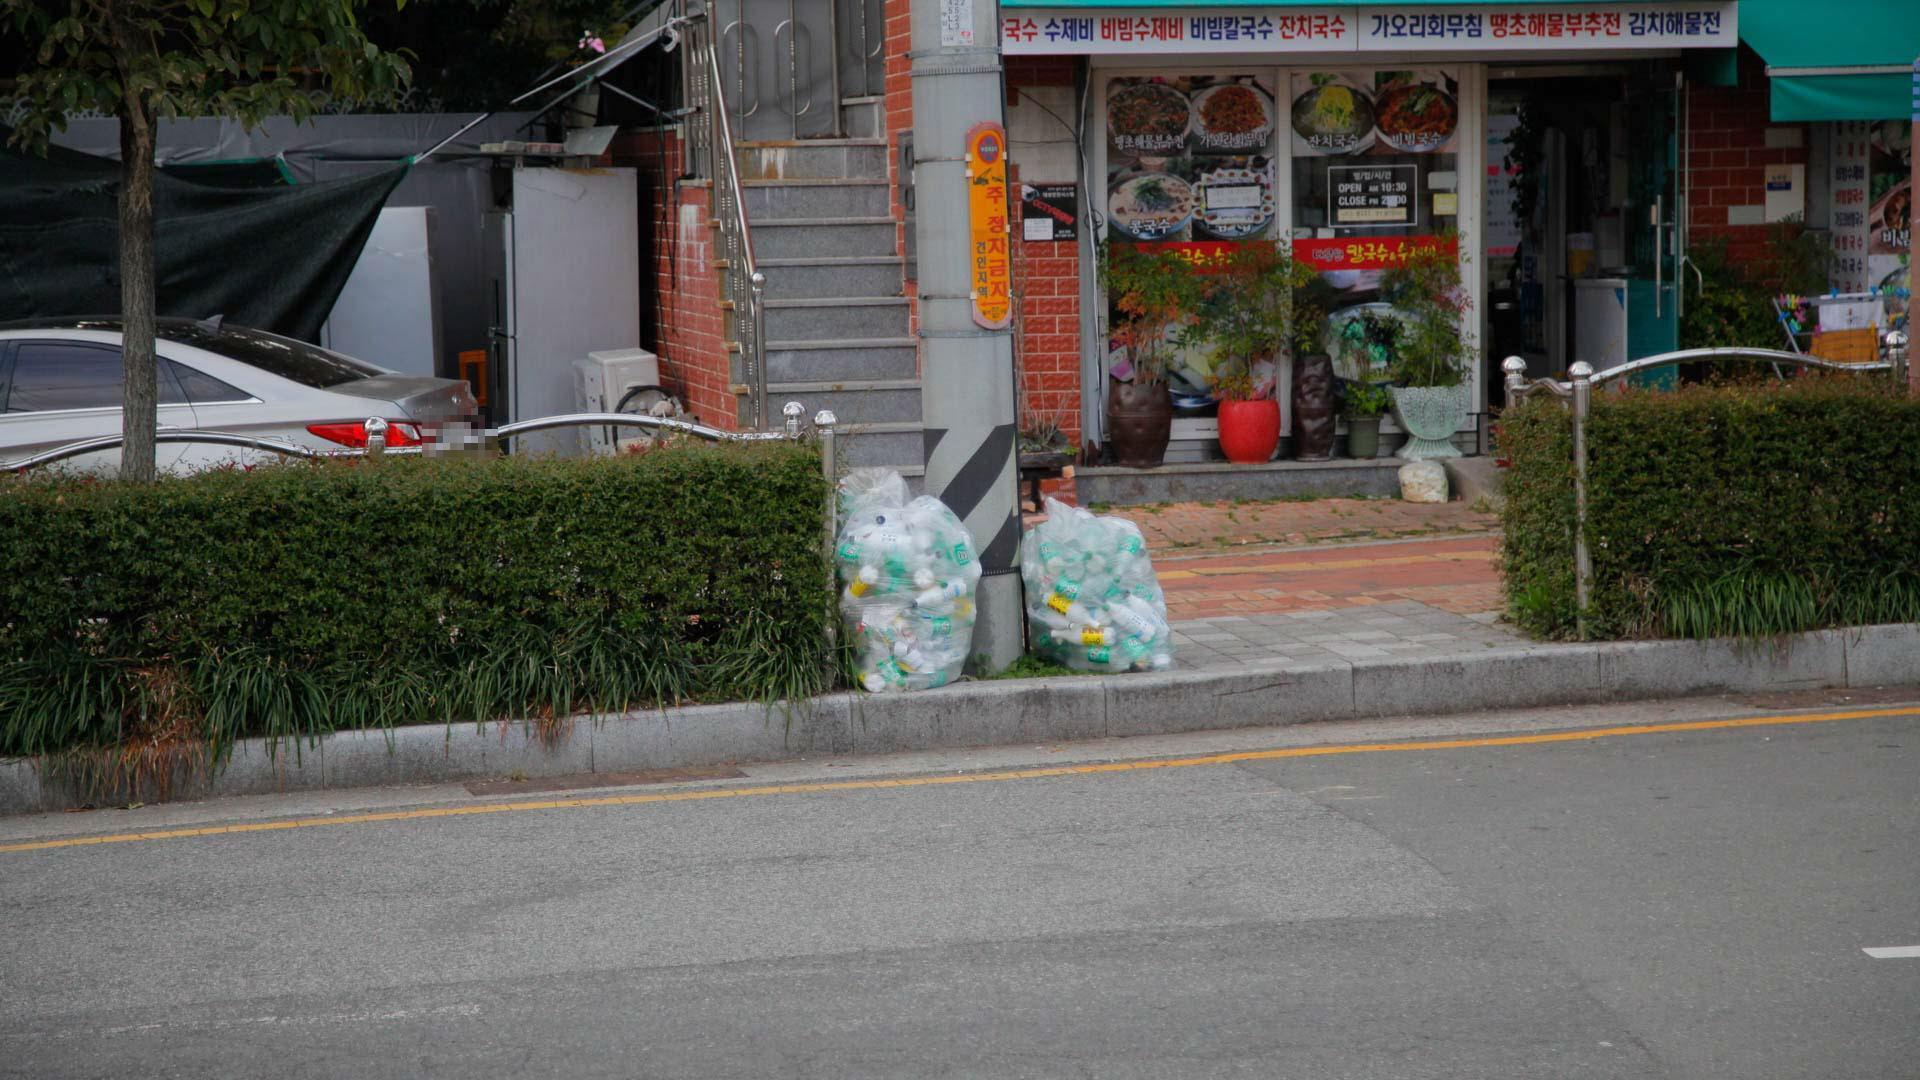white_bag: (816, 458, 989, 705), (1011, 487, 1183, 684)
